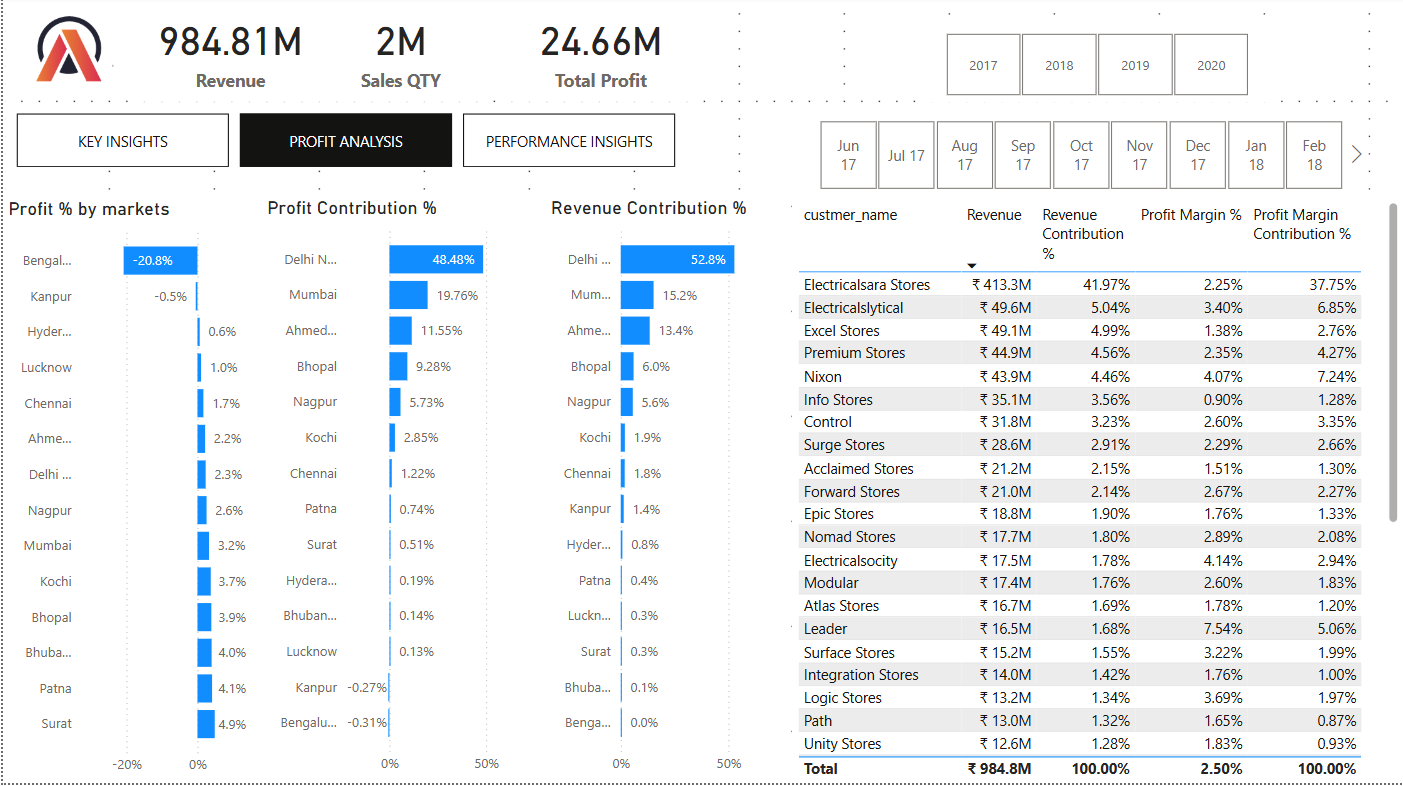

The dashboard page shown, as its layout file describes it:
{"tool":"powerbi","page":{"name":"PROFIT  ANALYSIS","canvas":[1280,720],"ordinal":1},"visuals":[{"type":"card","fields":{"Values":["Basic Measures.Revenue"]},"box":[125.6,0,164.7,97.2],"z":0},{"type":"card","fields":{"Values":["Basic Measures.Sales QTY"]},"box":[290.4,0,147,97.2],"z":1000},{"type":"image","box":[0,0,113.8,97.2],"z":2000},{"type":"clusteredBarChart","title":"Profit % by markets","fields":{"Y":["Basic Measures.Profit Margin %"],"Category":["sales markets.markets_name"]},"box":[0,184,236.6,537.1],"z":3000},{"type":"clusteredBarChart","title":"Profit  Contribution %","fields":{"Y":["Basic Measures.Profit Margin Contribution %"],"Category":["sales markets.markets_name"]},"box":[236.6,182.9,259.4,537.1],"z":4000},{"type":"slicer","fields":{"Values":["sales date.cy_date"]},"box":[720.6,107.9,527.4,75.9],"z":5000},{"type":"slicer","fields":{"Values":["sales date.year"]},"box":[836.7,27.3,325.9,69.9],"z":6000},{"type":"pageNavigator","box":[13,107.9,603.3,49.8],"z":8000},{"type":"card","fields":{"Values":["Basic Measures.Total Profit"]},"box":[453.9,0,186.1,97.2],"z":9000},{"type":"clusteredBarChart","title":"Revenue Contribution %","fields":{"Y":["Basic Measures.Revenue Contribution %"],"Category":["sales markets.markets_name"]},"box":[496,182.9,224,537.1],"z":10000},{"type":"tableEx","fields":{"Values":["sales customers.custmer_name","Basic Measures.Revenue","Basic Measures.Revenue Contribution %","Basic Measures.Profit Margin %","Basic Measures.Profit Margin Contribution %"]},"box":[720.6,183.7,559.4,536.9],"z":11000}]}

Visuals, with their boxes in screenshot pixels (x1, y1, x2, y2), scaled from the page's 1280x720 canvas onto the 1403x786 screenshot:
card - Basic Measures.Revenue: (left=138, top=0, right=318, bottom=106)
card - Basic Measures.Sales QTY: (left=318, top=0, right=479, bottom=106)
image: (left=0, top=0, right=125, bottom=106)
"Profit % by markets" clusteredBarChart: (left=0, top=201, right=259, bottom=785)
"Profit  Contribution %" clusteredBarChart: (left=259, top=200, right=544, bottom=785)
slicer - sales date.cy_date: (left=790, top=118, right=1368, bottom=201)
slicer - sales date.year: (left=917, top=30, right=1274, bottom=106)
pageNavigator: (left=14, top=118, right=676, bottom=172)
card - Basic Measures.Total Profit: (left=498, top=0, right=702, bottom=106)
"Revenue Contribution %" clusteredBarChart: (left=544, top=200, right=789, bottom=785)
tableEx - sales customers.custmer_name x Basic Measures.Revenue: (left=790, top=201, right=1402, bottom=785)
